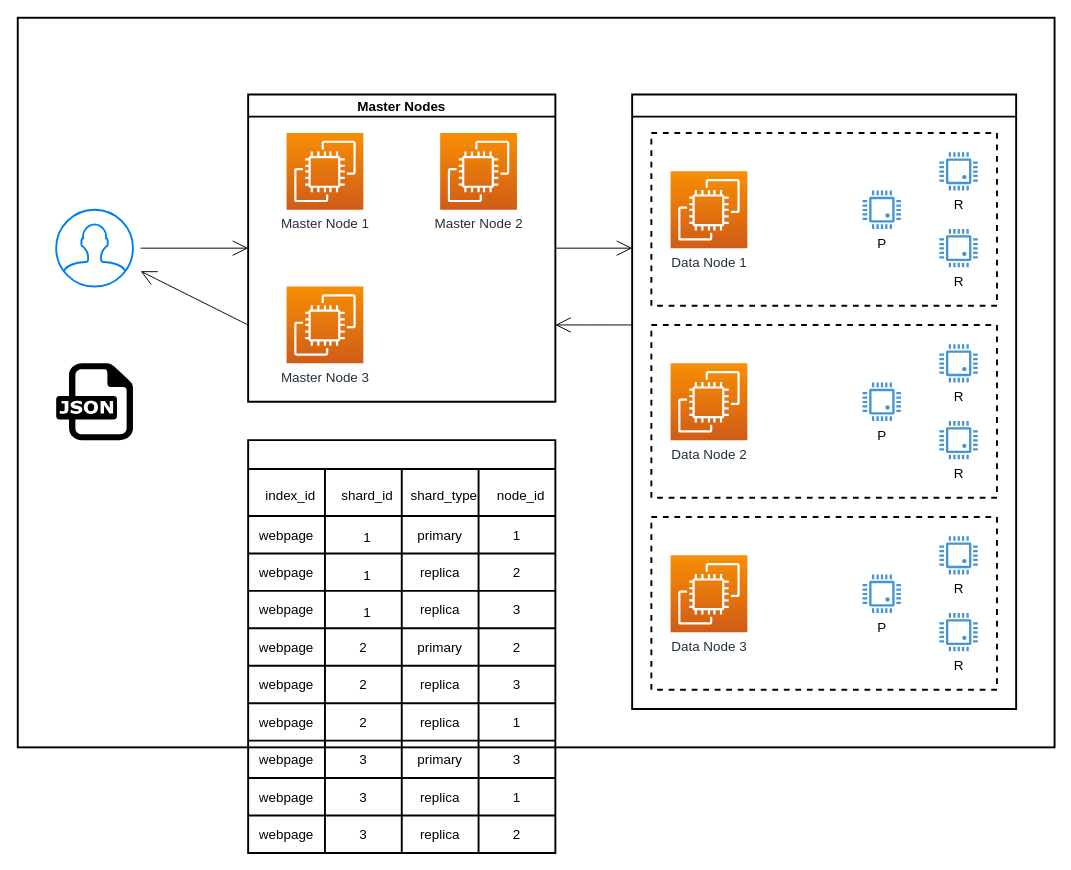
The diagram is 1071 pixels wide and 870 high, and some of its shapes have lost their labels. Each missing label, with the box of its shape:
Data Nodes: (631, 93, 1017, 709)
Metadata Store: (247, 439, 556, 853)
{"id": "a2f75f9f..."} hash(id) % 3 0 = node 1 1 = node 2 3 = node 3: (55, 362, 133, 441)
